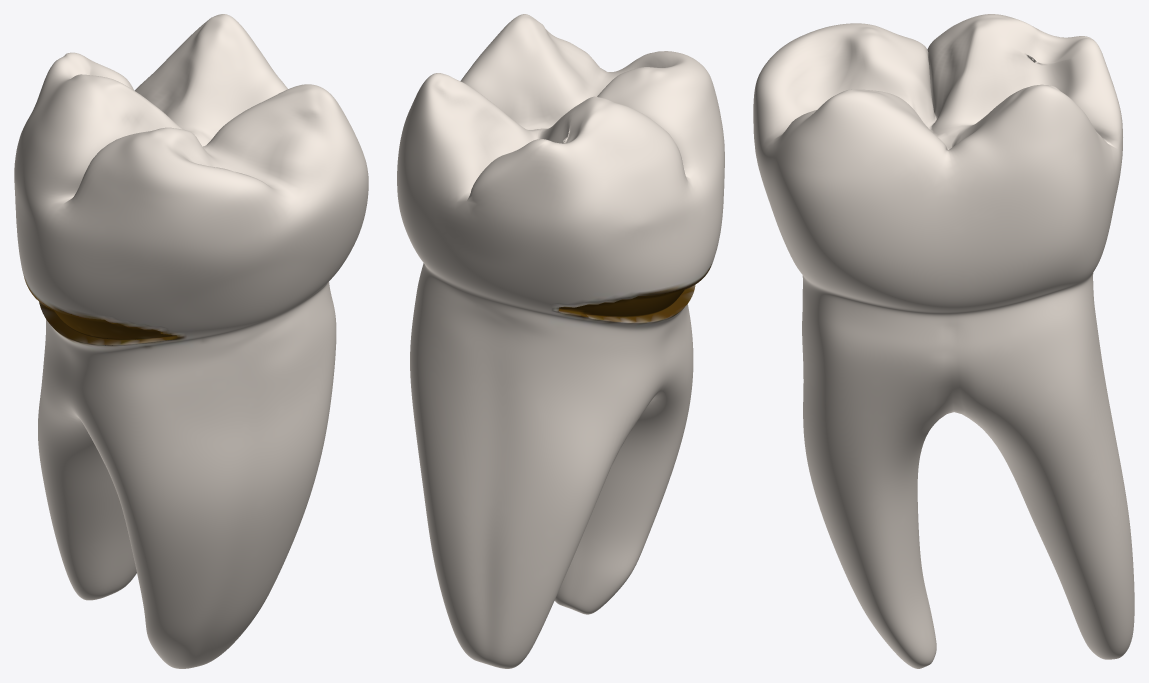
File: Gigi 5.2.fbx
3 renders of one model, left to right at view 1: azimuth 30°, elevation 25°; view 2: azimuth 150°, elevation 25°; view 3: azimuth 270°, elevation 25°, orthographic. The views are drawn at different scales.
Visible parts, largest first — view 1: Group35581.020; view 2: Group35581.020; view 3: Group35581.020.
Part boxes in pixels (<box>): Group35581.020: <box>14,14,368,668</box>; Group35581.020: <box>397,14,724,668</box>; Group35581.020: <box>753,14,1134,668</box>.
Size of the model in its own units: 25.88 by 51.67 by 28.64.
Materials: 1 (1 with a texture image).
